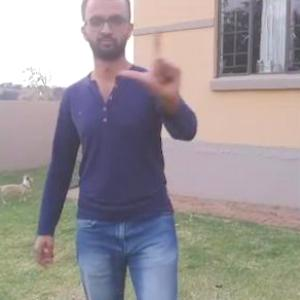land_hand: (116, 25, 184, 103)
